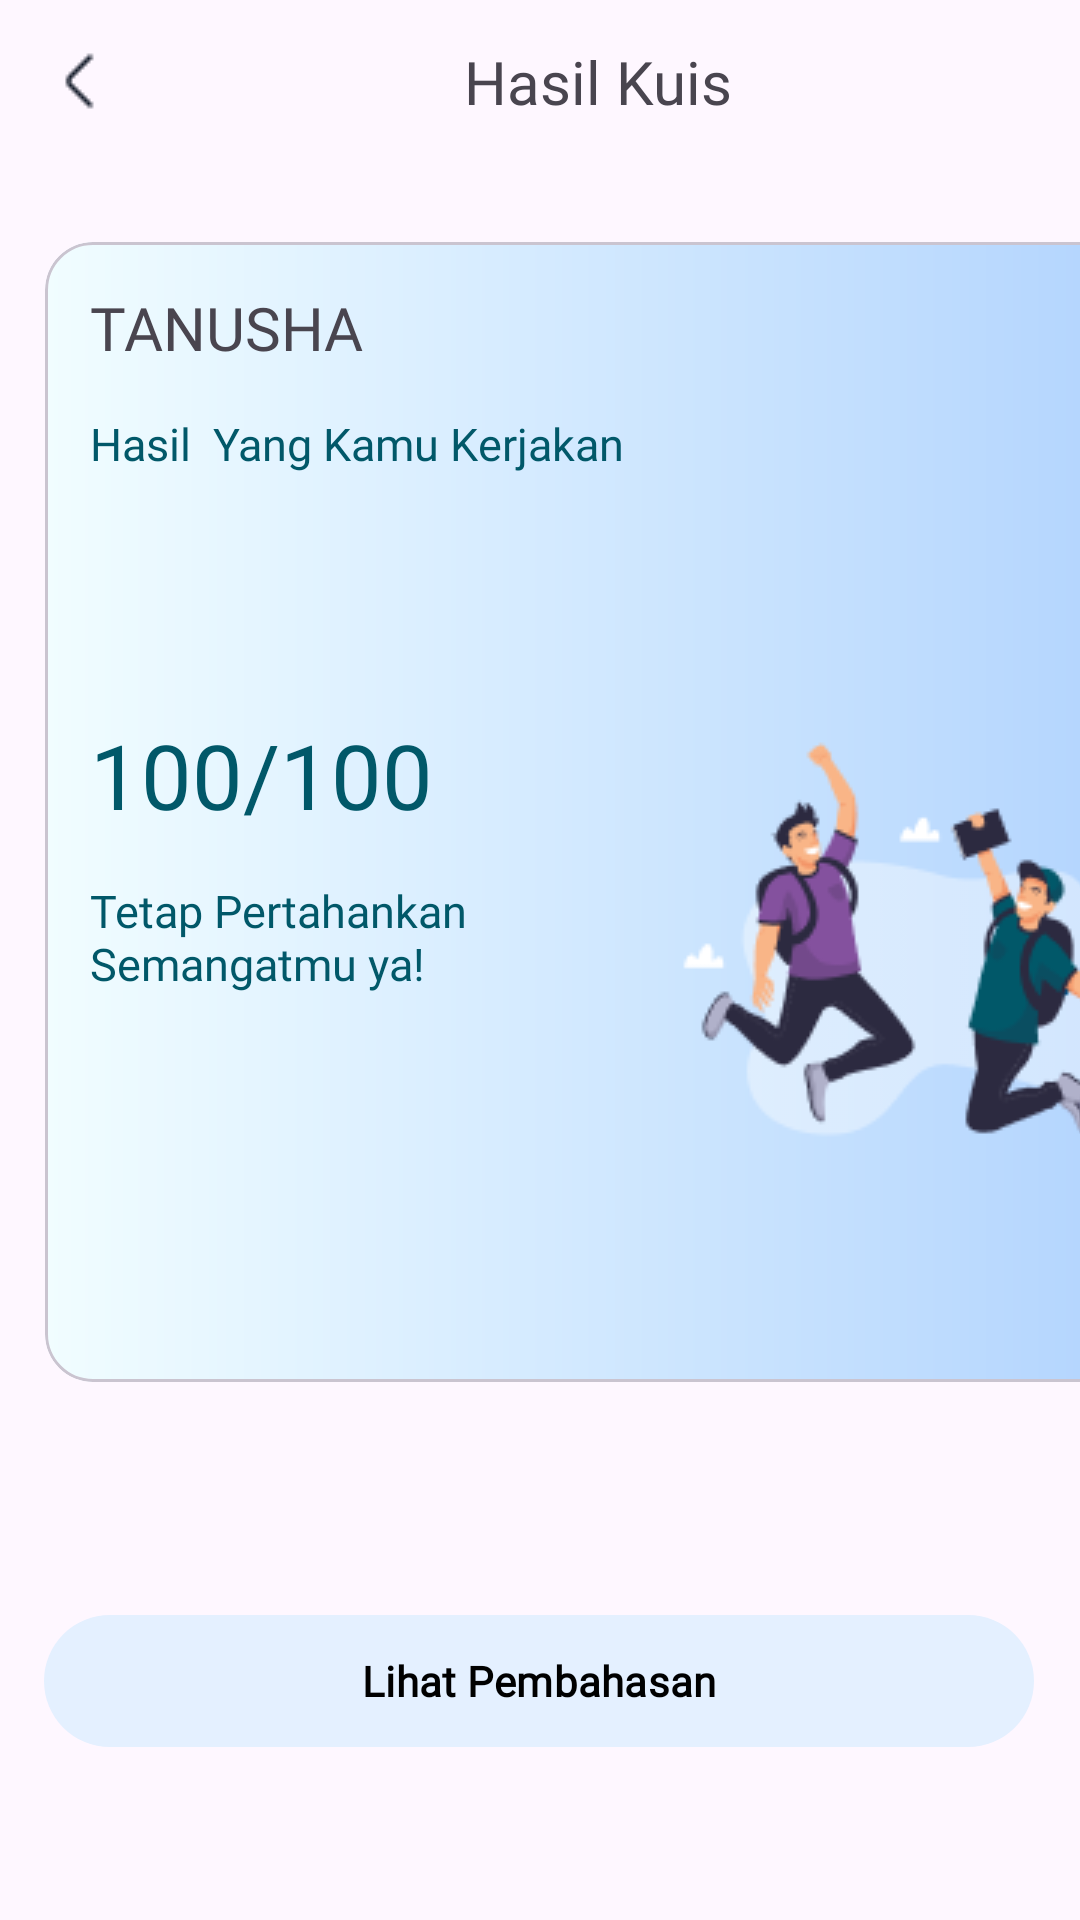

Icon bounding boxes for this 1080px×1920px phone screenshot, format {"x1": x1, "y1": y1, "x2": x2, "y2": y2}:
back: {"x1": 65, "y1": 53, "x2": 94, "y2": 109}
